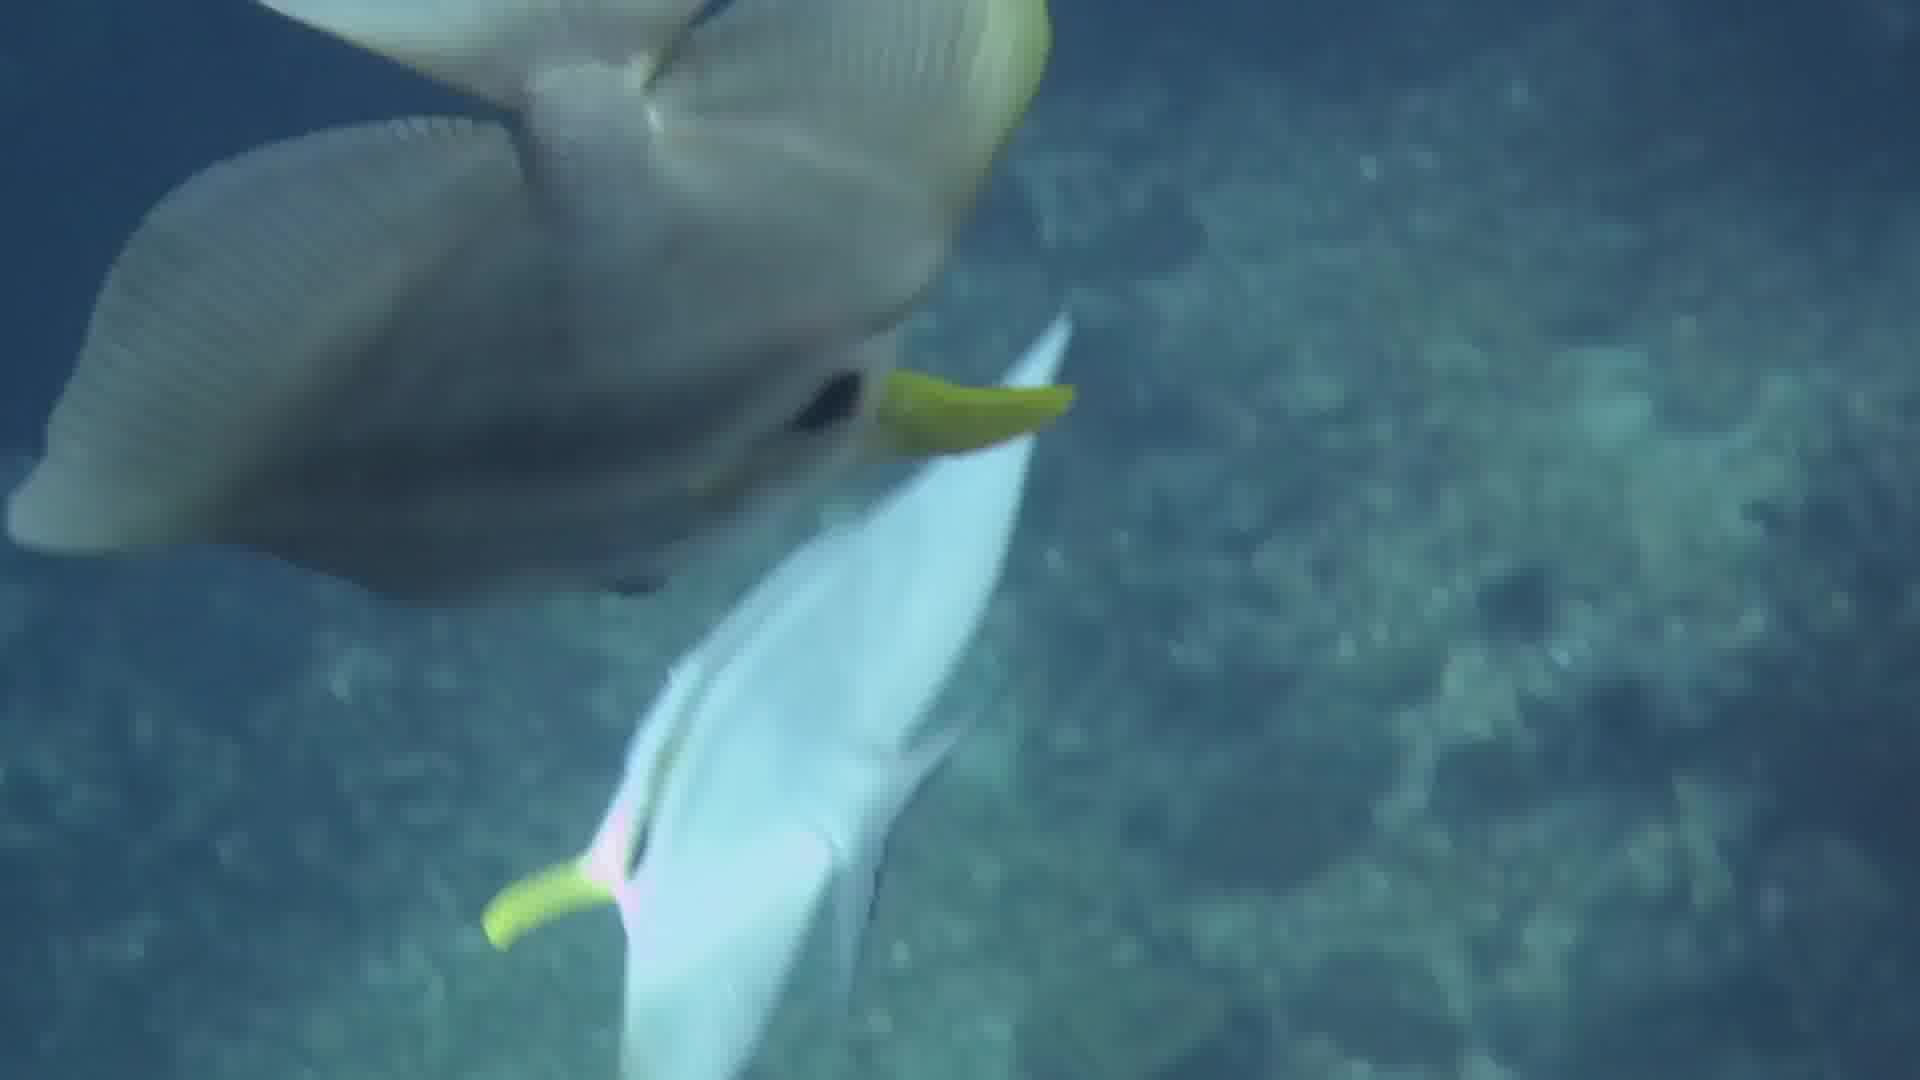Platax teira: (1, 1, 1120, 596)
